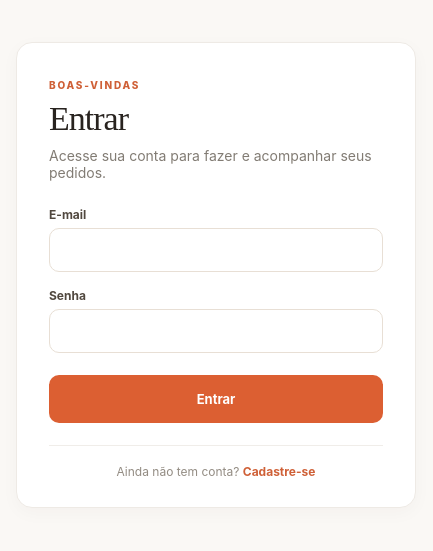
Test: Login › credenciais inválidas mostram a mensagem e continuam na tela
In the field labelled "E-mail": coordinates (216, 250) [49, 228, 383, 272], type "cliente@email.com"
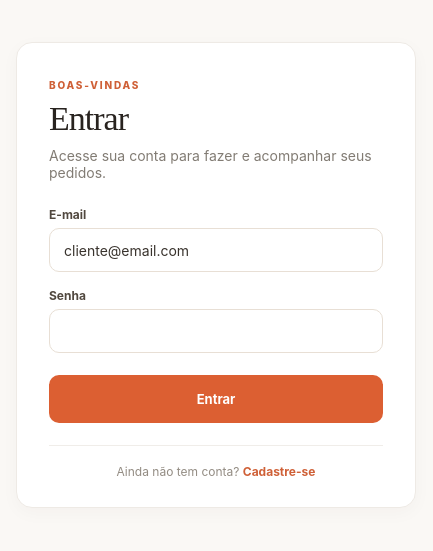
In the password field labelled "Senha": coordinates (216, 331) [49, 309, 383, 353], type "errada"
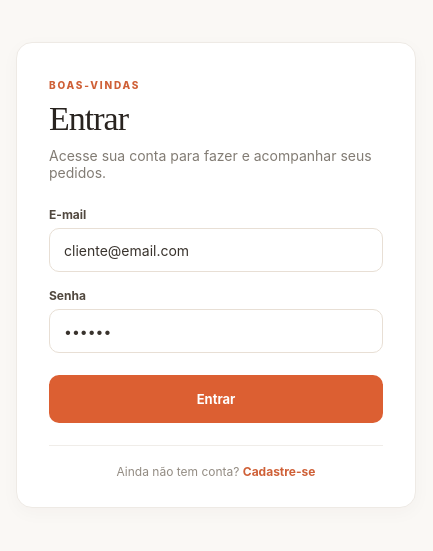
Click the button "Entrar": coordinates (216, 399) [49, 375, 383, 423]
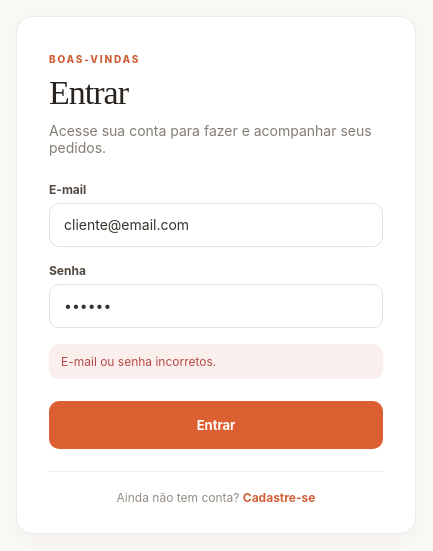
Expected: the button "Entrar" is enabled, [49, 401, 383, 449]
Result: the message reads "E-mail ou senha incorretos." at [61, 354, 216, 369]
